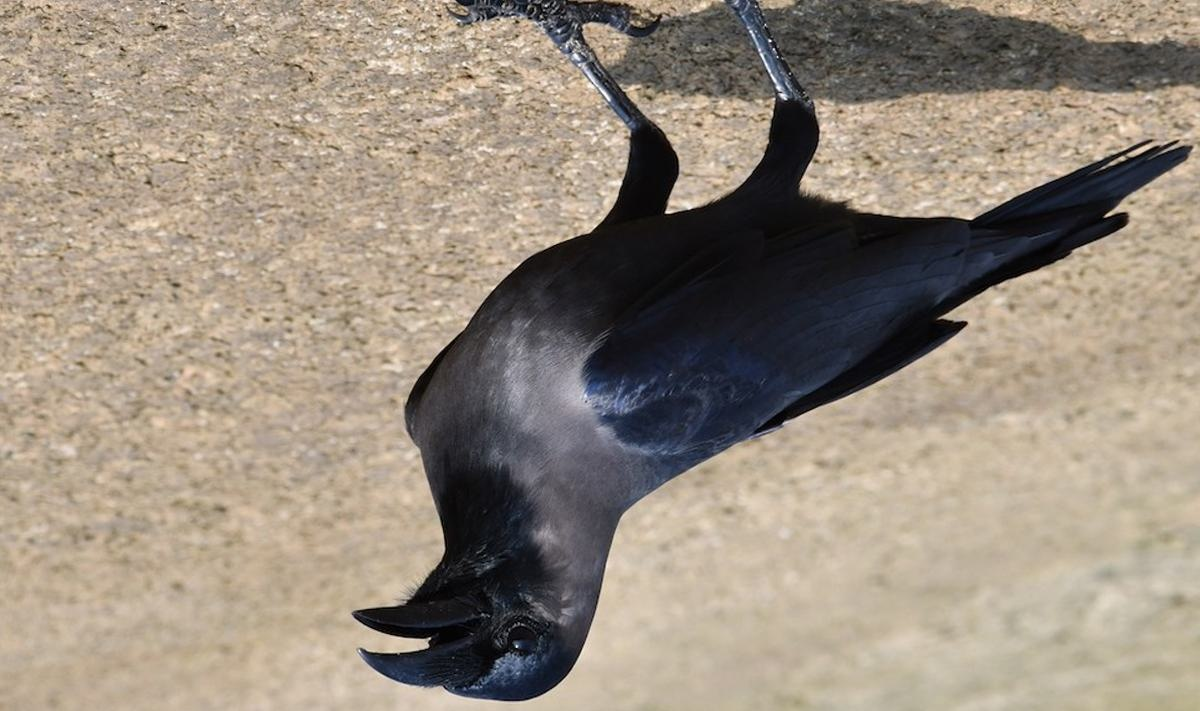crow: (333, 5, 1179, 704)
